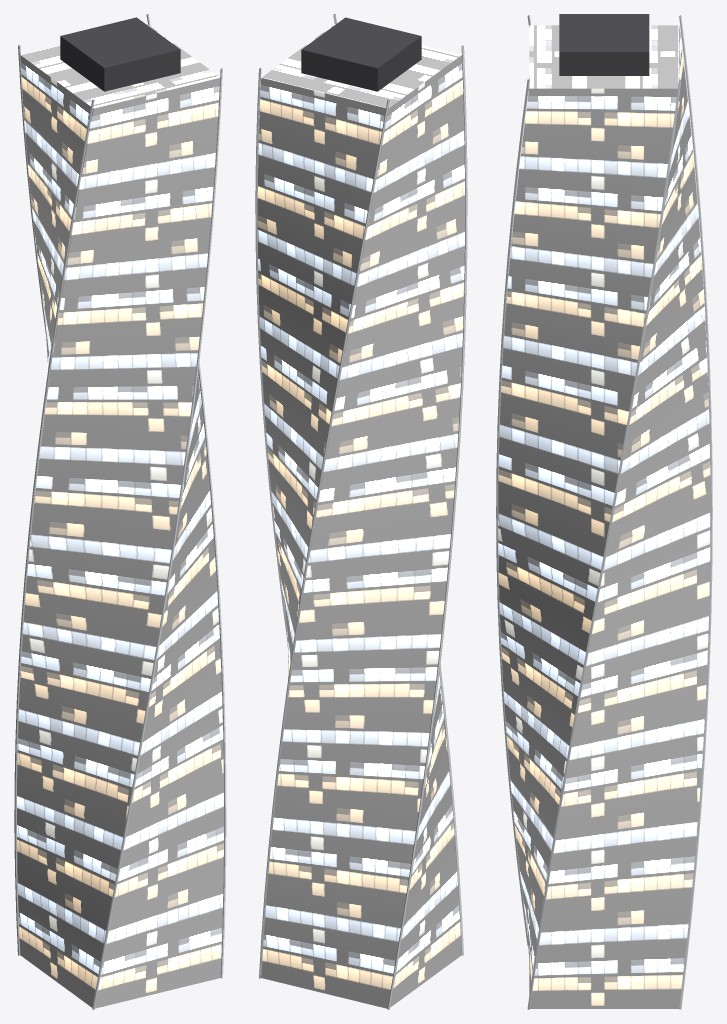
Rendered from SM_KAFD_Twist.fbx.
The picture shows the model from 3 angles, left to right: view 1: azimuth 30°, elevation 25°; view 2: azimuth 150°, elevation 25°; view 3: azimuth 270°, elevation 25°; orthographic projection. The views are drawn at different scales.
Visible parts, largest first — view 1: SM_KAFD_Twist; view 2: SM_KAFD_Twist; view 3: SM_KAFD_Twist.
Part boxes in pixels (box(x1,y1,x2,y2)): SM_KAFD_Twist: box(14, 14, 226, 1009); SM_KAFD_Twist: box(255, 14, 467, 1009); SM_KAFD_Twist: box(496, 14, 712, 1009).
Bounding box in the file's own units: 4913 × 23605 × 4910.
